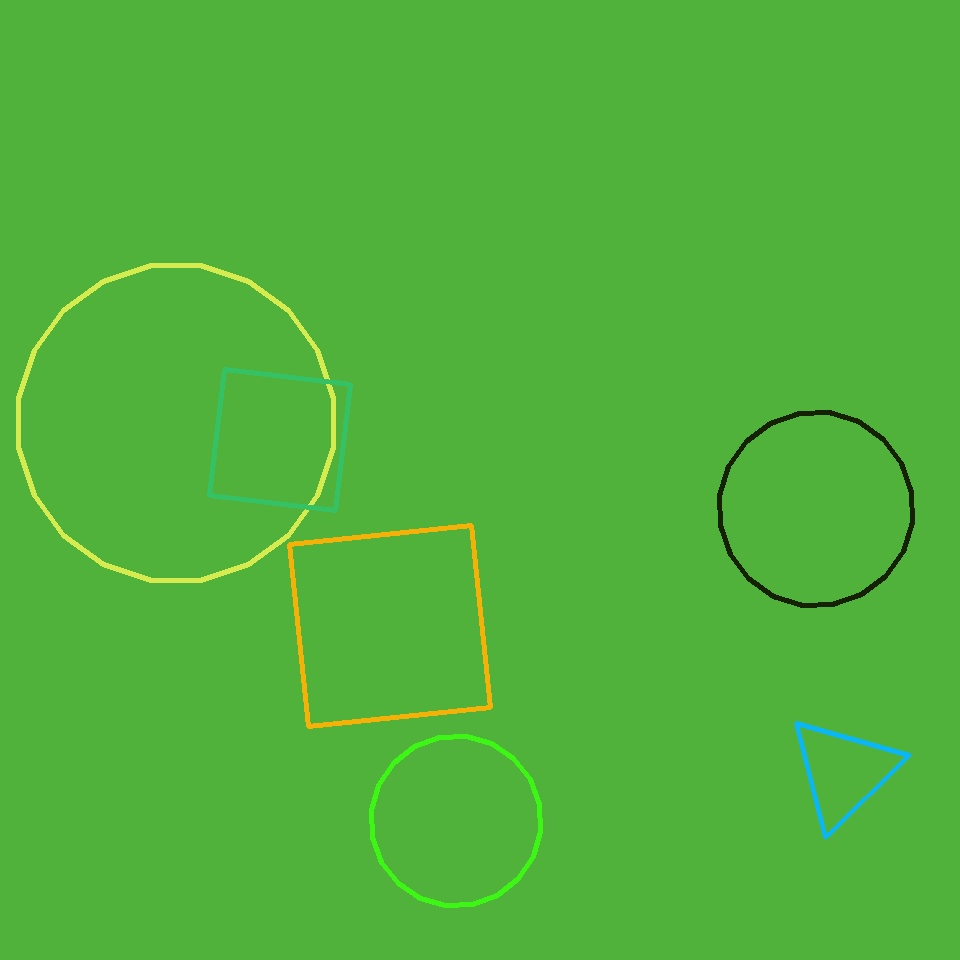circle: (788, 715, 900, 829)
square: (290, 526, 491, 726), (210, 370, 350, 510)
triangle: (18, 266, 334, 580), (720, 412, 912, 605), (372, 736, 540, 906)
